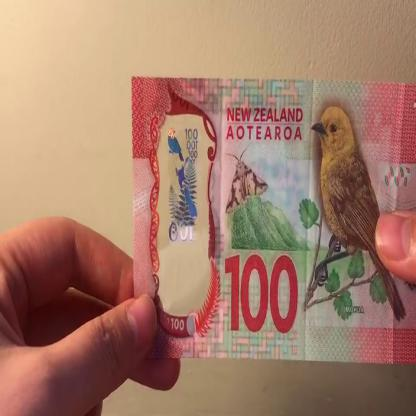100B: (160, 122, 204, 288)
